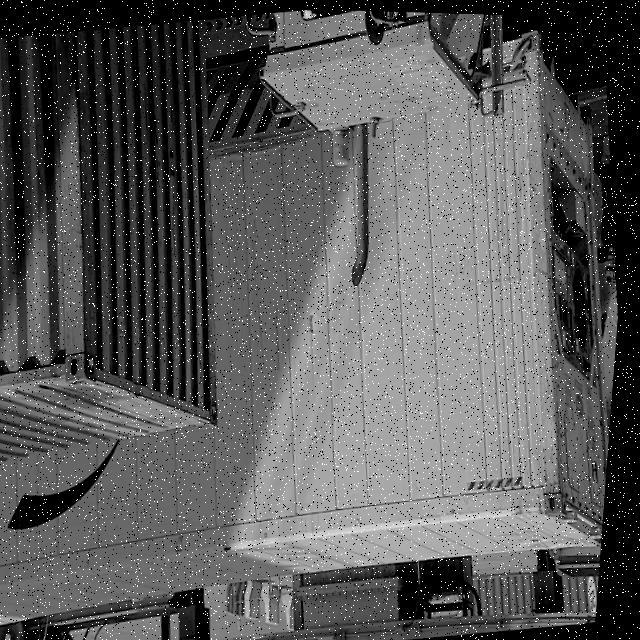rust: (538, 447, 588, 535)
